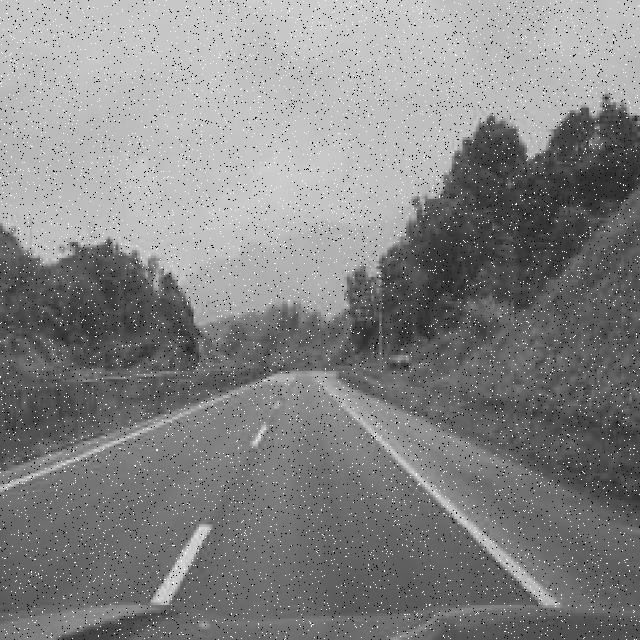clear-road: (0, 374, 640, 620)
